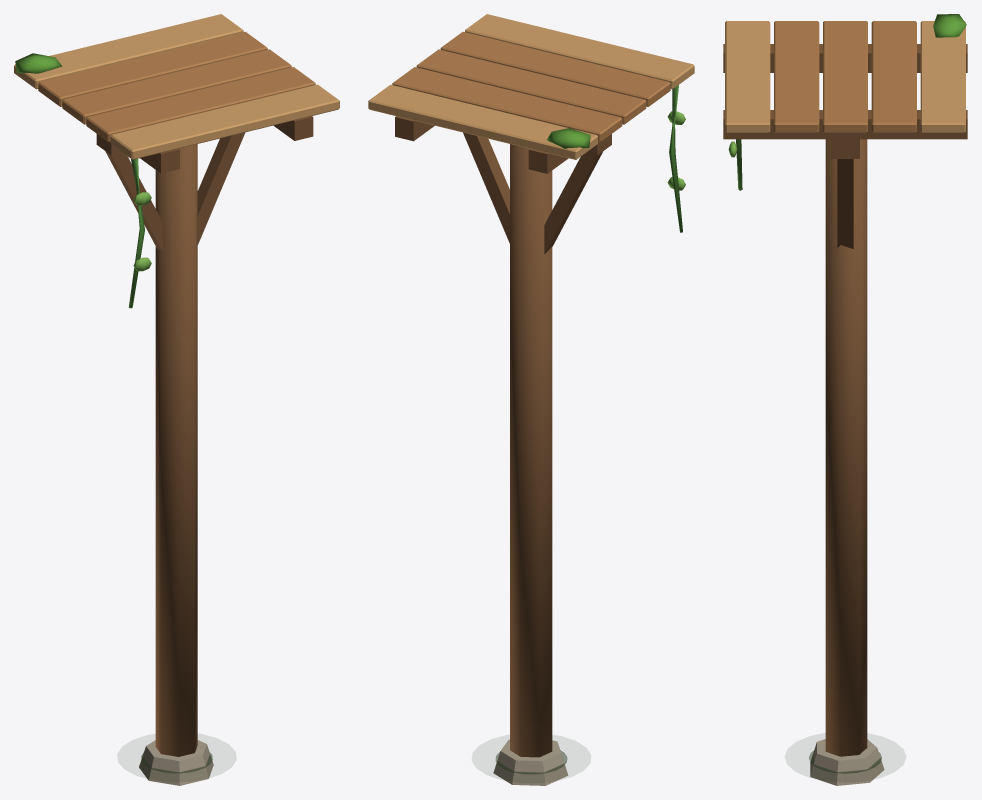
Rendered from canopy_deck.glb.
3 renders of one model, left to right at view 1: azimuth 30°, elevation 25°; view 2: azimuth 150°, elevation 25°; view 3: azimuth 270°, elevation 25°, orthographic.
Visible parts, largest first — view 1: canopy_deck; view 2: canopy_deck; view 3: canopy_deck.
Boxes of the visible parts, bbox=[...] form: canopy_deck: bbox=[14, 14, 339, 785]; canopy_deck: bbox=[368, 14, 694, 785]; canopy_deck: bbox=[723, 14, 967, 785].
Bounding box in the file's own units: 1.02 × 3.19 × 1.
